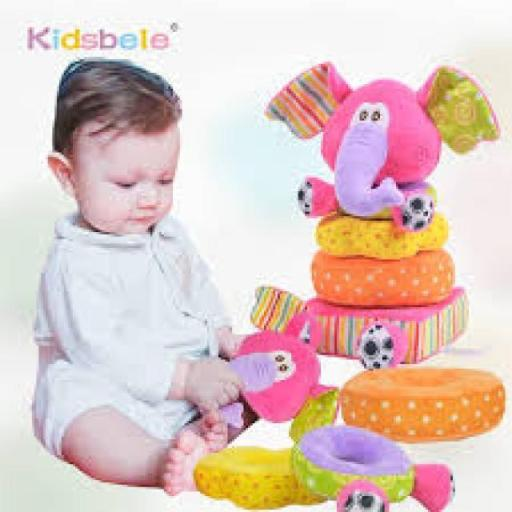baby: (33, 60, 241, 494)
